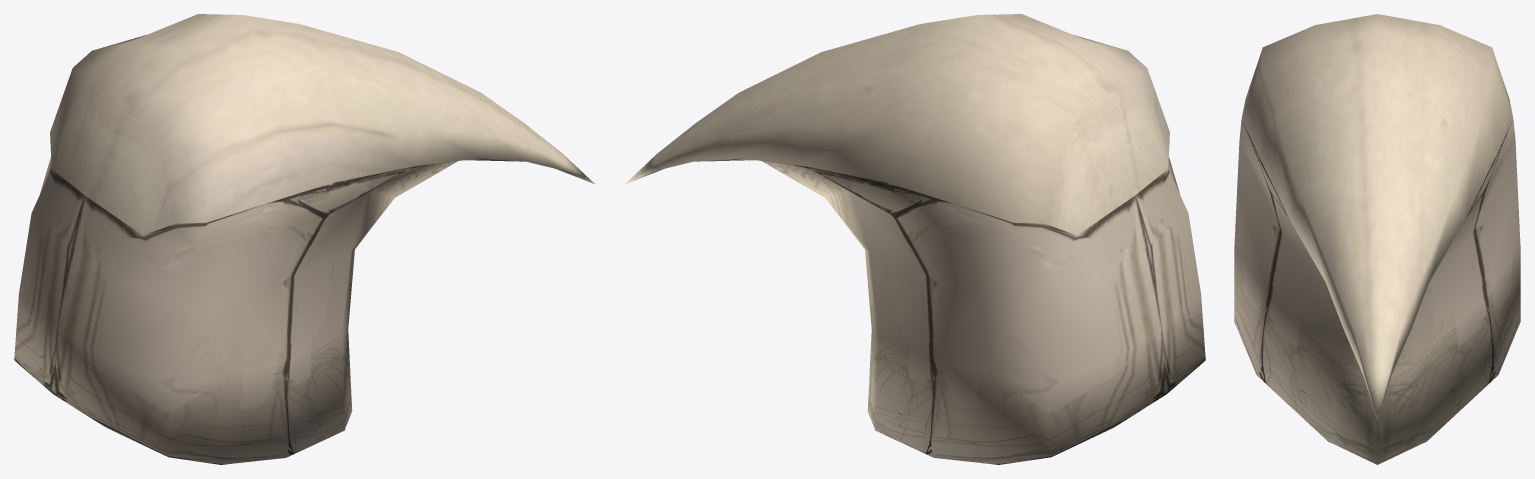
The model's file is pengo.dae.
3 renders of one model, left to right at view 1: azimuth 30°, elevation 25°; view 2: azimuth 150°, elevation 25°; view 3: azimuth 270°, elevation 25°, orthographic. The views are drawn at different scales.
Parts seen in each view (by area): view 1: Cube; view 2: Cube; view 3: Cube.
Part boxes in pixels (x1=…): Cube: x1=14, y1=14, x2=594, y2=464; Cube: x1=625, y1=14, x2=1205, y2=464; Cube: x1=1234, y1=14, x2=1520, y2=464.
Size of the model in its own units: 2.6 by 1.3 by 1.93.
Materials: 1 (1 with a texture image).
